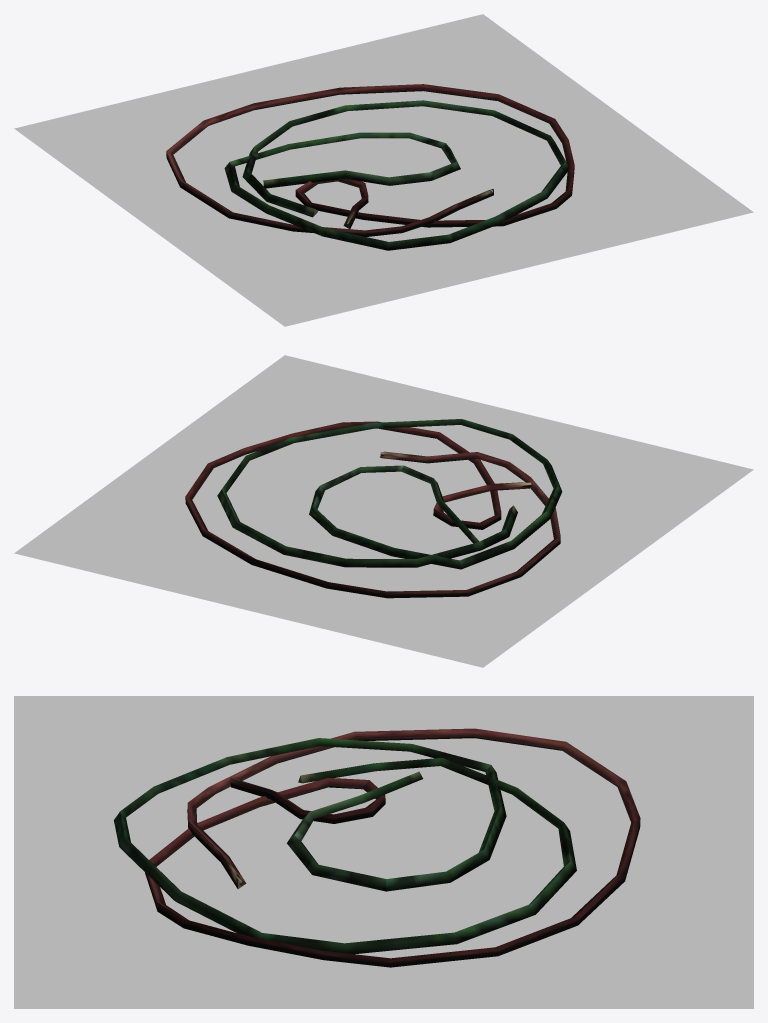
Rendered from electrical_cables01.DAE.
3 views of the same model, one above another, from view 1: azimuth 30°, elevation 25°; view 2: azimuth 150°, elevation 25°; view 3: azimuth 270°, elevation 25° (orthographic). The views are drawn at different scales.
Visible parts, largest first — view 1: Plane002, Plane001; view 2: Plane002, Plane001; view 3: Plane002, Plane001.
Part boxes in pixels (box(x1,y1,x2,y2)): Plane002: box(14, 14, 753, 326); Plane001: box(166, 84, 574, 250); Plane002: box(14, 355, 753, 667); Plane001: box(185, 419, 562, 598); Plane002: box(14, 696, 753, 1008); Plane001: box(114, 728, 640, 967).
Size of the model in its own units: 1 by 0.0391 by 1.
